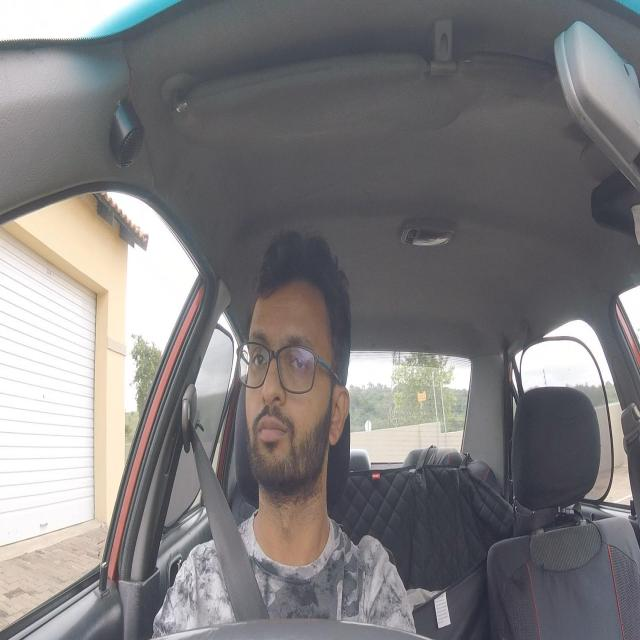open: (281, 331, 316, 385), (243, 324, 273, 378)
